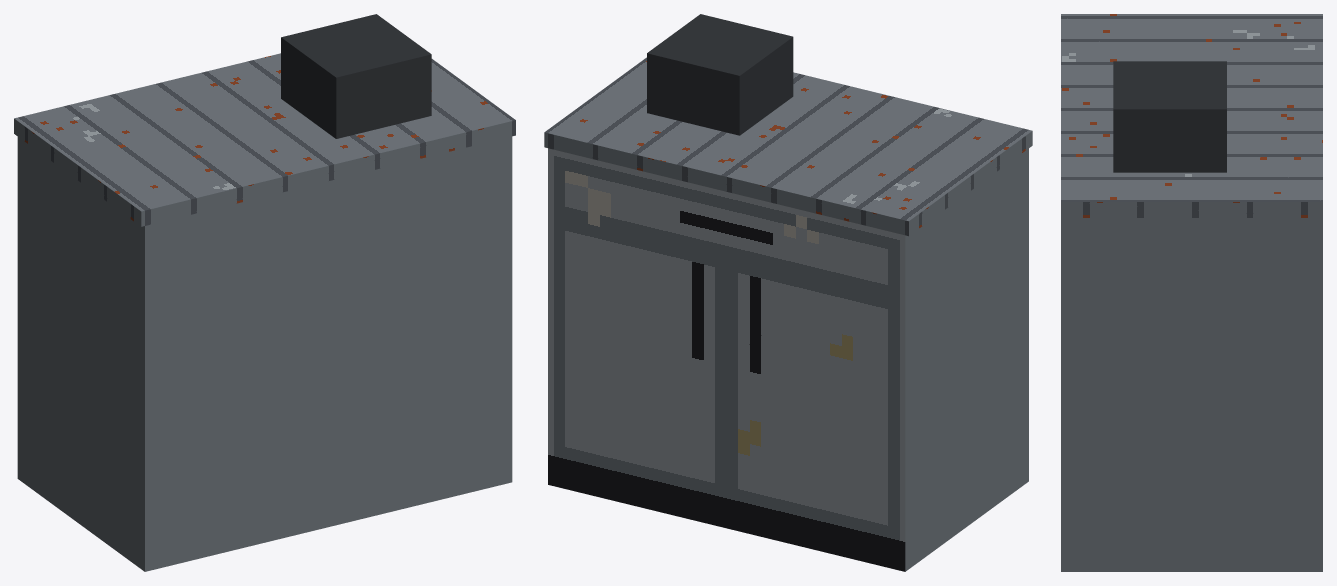
Rendered from kitchen.glb.
3 renders of one model, left to right at view 1: azimuth 30°, elevation 25°; view 2: azimuth 150°, elevation 25°; view 3: azimuth 270°, elevation 25°, orthographic. The views are drawn at different scales.
Visible parts, largest first — view 1: kitchen; view 2: kitchen; view 3: kitchen.
Part boxes in pixels (left/top/right/bottom): kitchen: left=14, top=14, right=515, bottom=571; kitchen: left=544, top=14, right=1032, bottom=571; kitchen: left=1061, top=14, right=1322, bottom=571.
Bounding box in the file's own units: 1.02 × 1.1 × 0.6.
4 materials, 4 textured.
